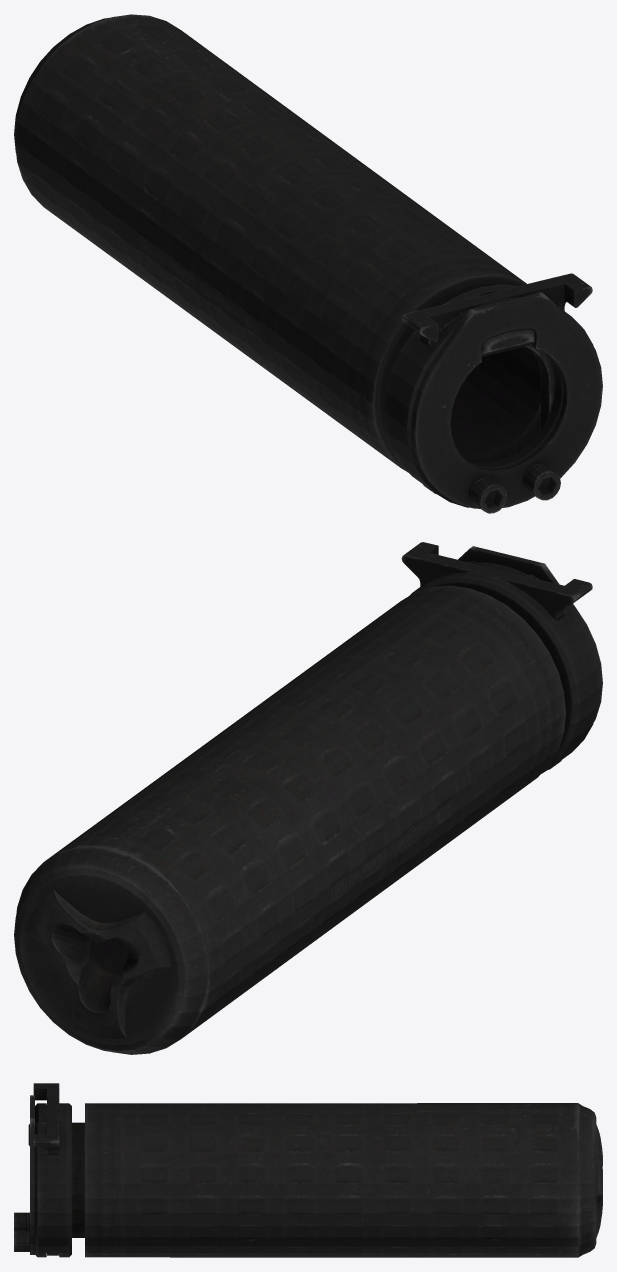
3 renders of one model, top to bottom at view 1: azimuth 30°, elevation 25°; view 2: azimuth 150°, elevation 25°; view 3: azimuth 270°, elevation 25°, orthographic. The views are drawn at different scales.
Parts seen in each view (by area): view 1: TW_638612b607dfed1ccb7206ba_PZ_Import; view 2: TW_638612b607dfed1ccb7206ba_PZ_Import; view 3: TW_638612b607dfed1ccb7206ba_PZ_Import.
Part boxes in pixels (x1,y1,x2,y2): TW_638612b607dfed1ccb7206ba_PZ_Import: (14,14,602,513); TW_638612b607dfed1ccb7206ba_PZ_Import: (14,542,602,1054); TW_638612b607dfed1ccb7206ba_PZ_Import: (14,1083,602,1257).
Bounding box in the file's own units: 0.021 × 0.08 × 0.0214.
Materials: 1 (1 with a texture image).
